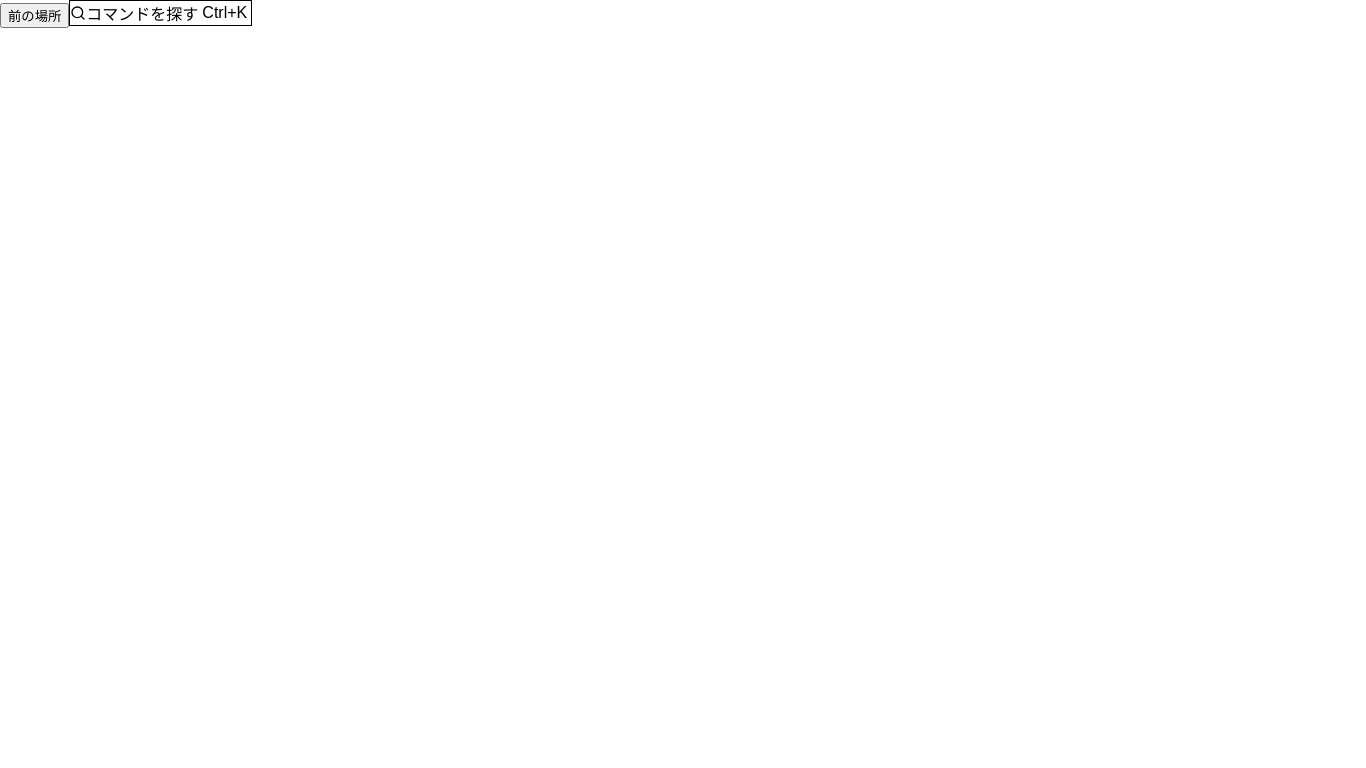
Test: CommandPalette › starts empty every time it opens
The width and height of the screenshot is (1366, 768).
Press k
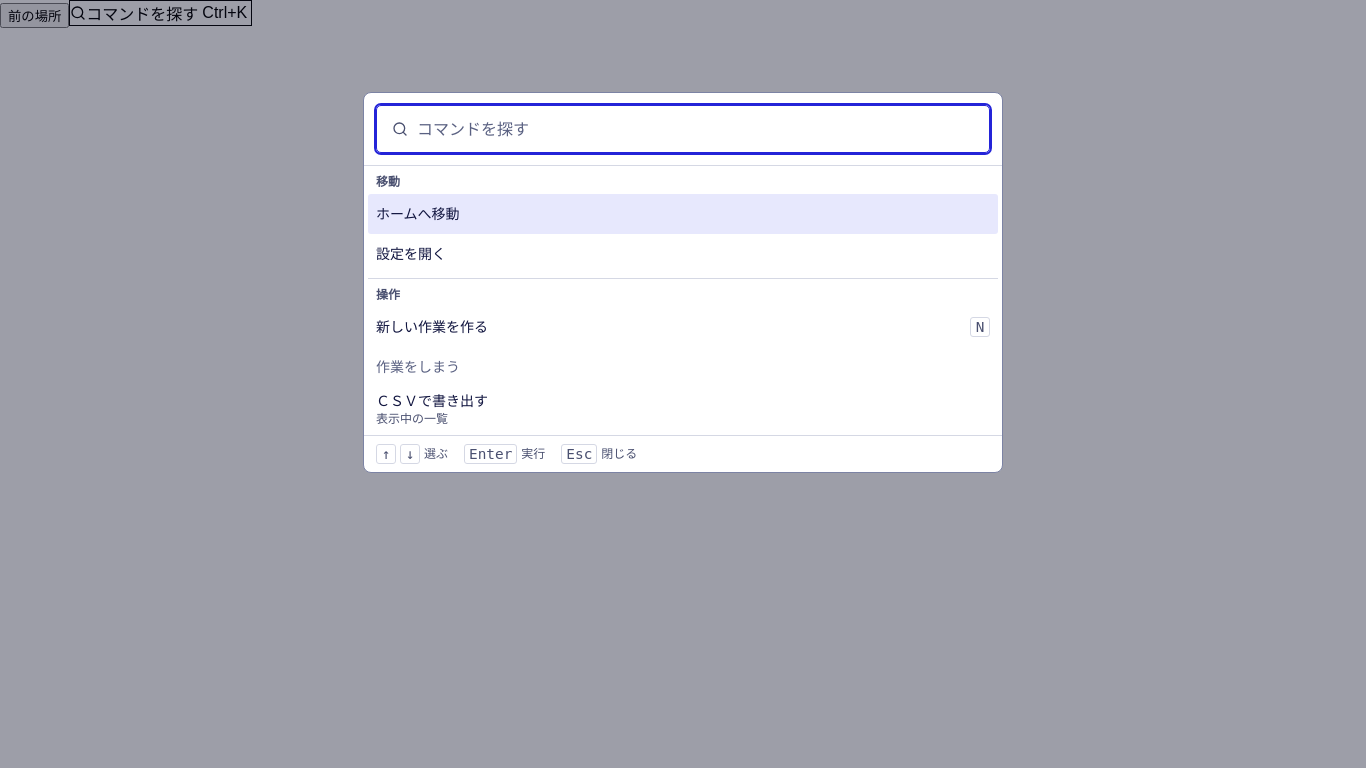
Type "せってい" into the dropdown labelled "コマンド" at x=683, y=129, box [376,105,990,153]
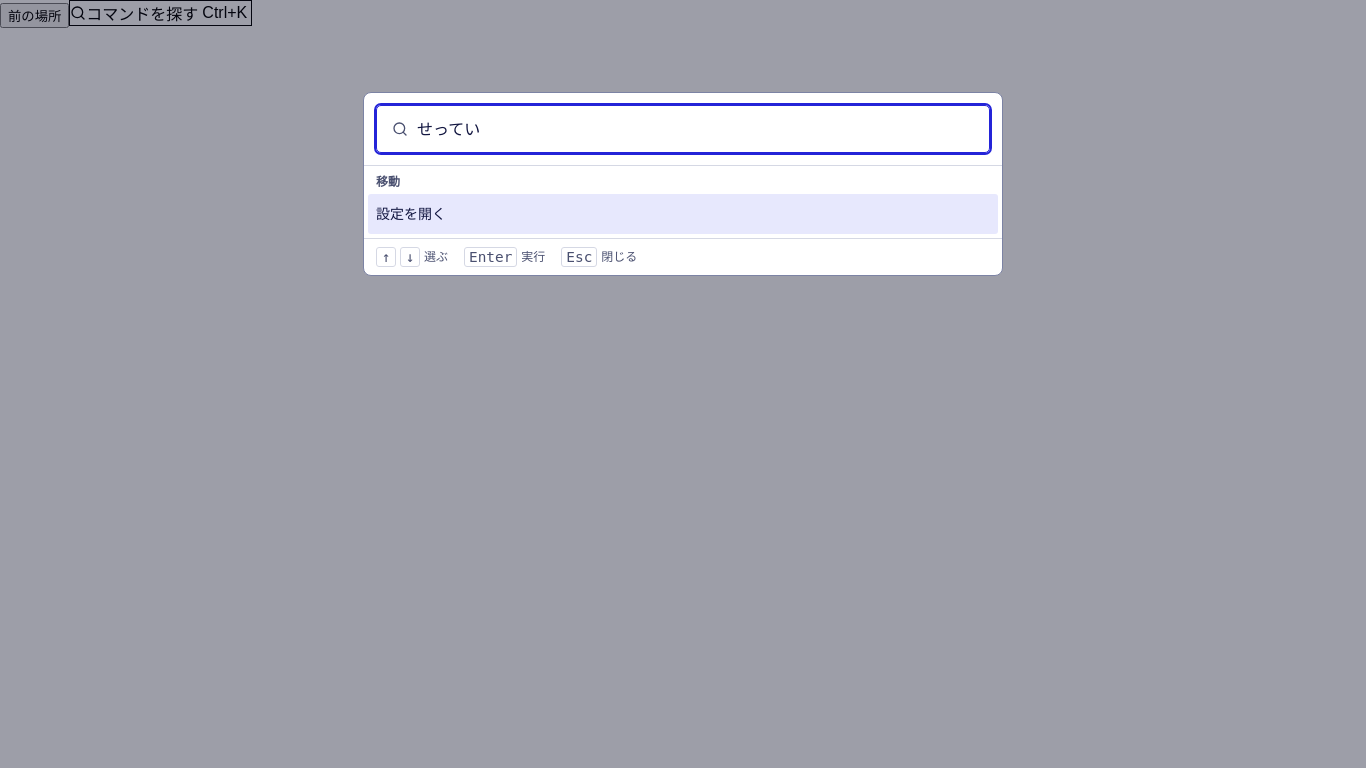
Press Escape
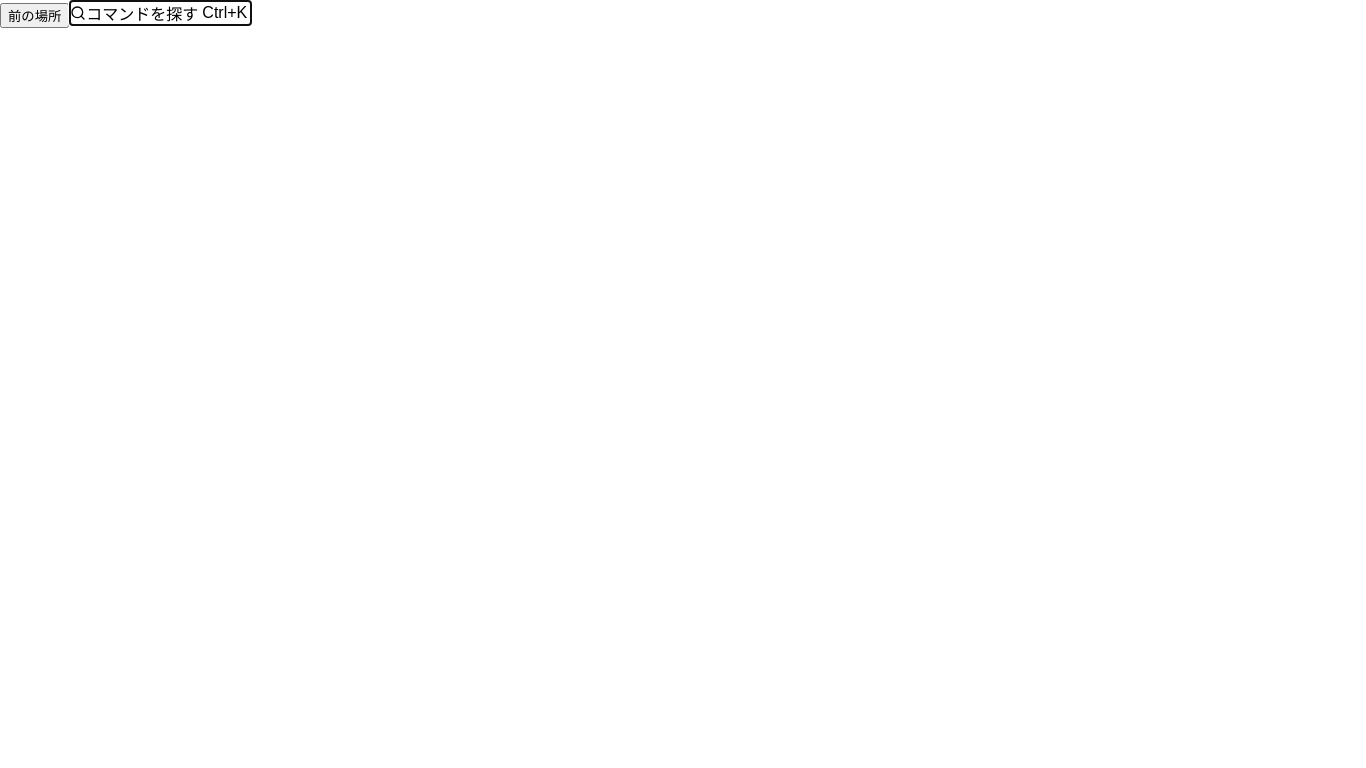
Press k
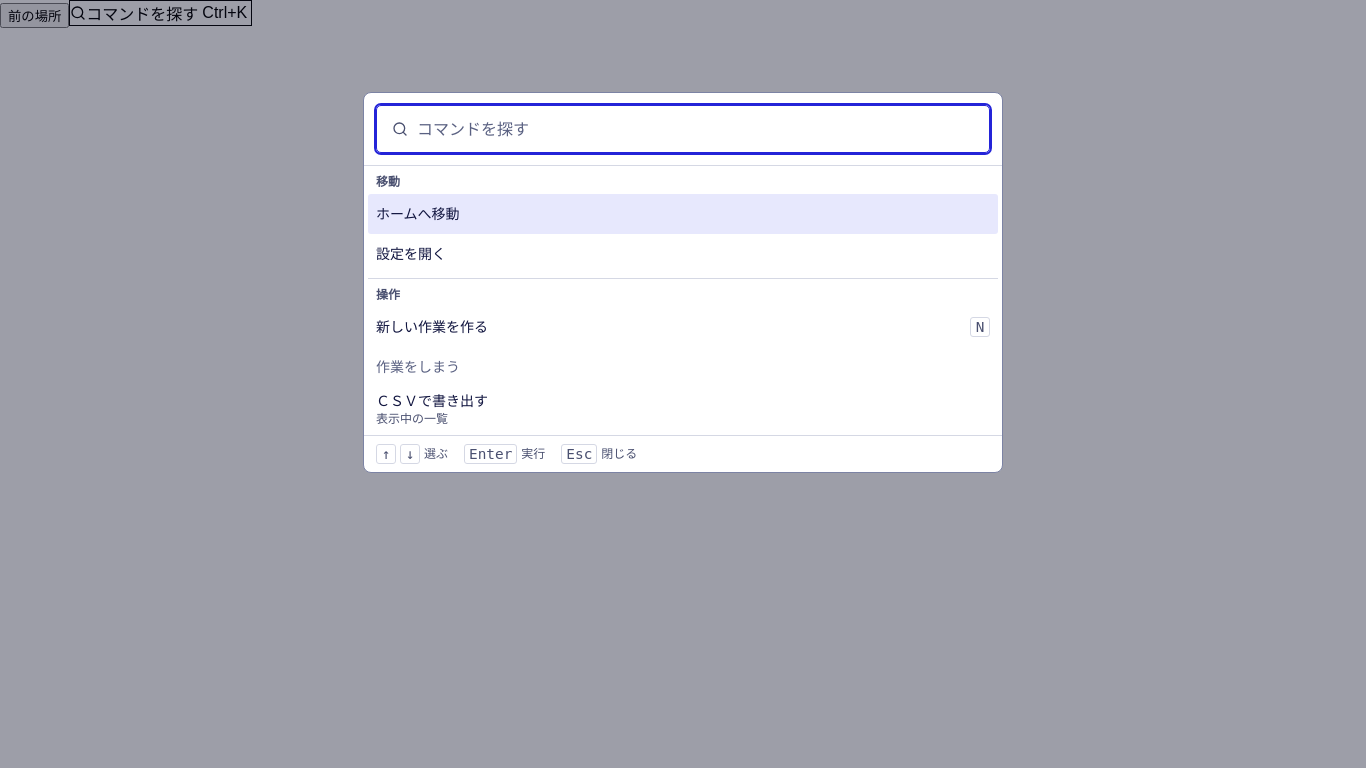
Expected: the dropdown labelled "コマンド" is empty, [376,105,990,153]
Expected: the number of options is 5, [368,194,998,234]; [376,244,446,263]; [376,317,990,337]; [376,357,460,376]; [376,391,488,427]
